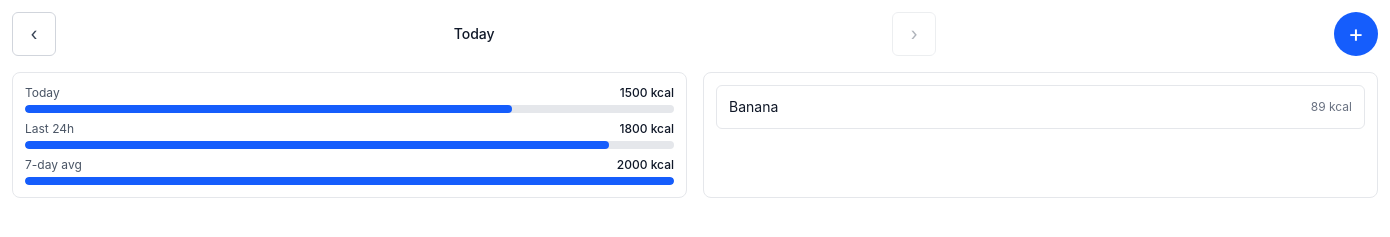
Scenario: Diary › plus-circle Add swaps to add-entry mode; red cancel returns
Expected: the text "Banana" is shown, top-left (729, 97), bottom-right (778, 117)
Click the button named "Add entry": (1356, 34) top-left (1334, 12), bottom-right (1378, 56)
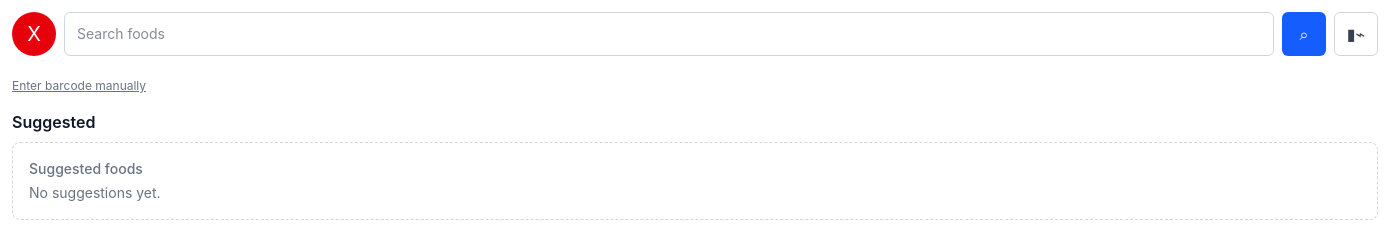
Expected: the form named "Search foods" is shown, top-left (64, 12), bottom-right (1378, 56)
Expected: the heading "Suggested" is shown, top-left (12, 112), bottom-right (95, 132)
Click the button named "Cancel add entry": (34, 34) top-left (12, 12), bottom-right (56, 56)
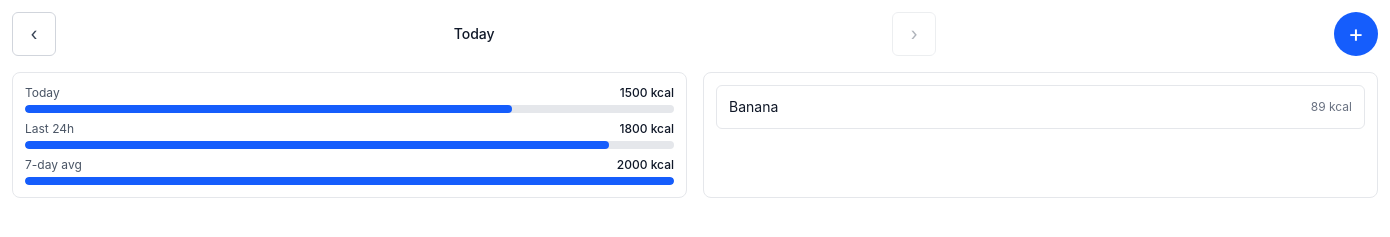
Expected: the text "Banana" is shown, top-left (729, 97), bottom-right (778, 117)
